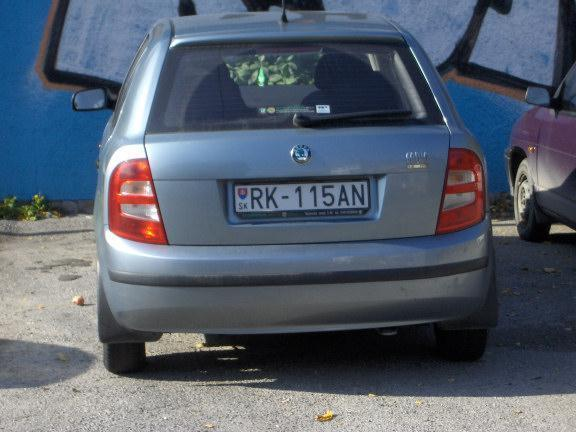placa de veiculo: (224, 167, 383, 225)
